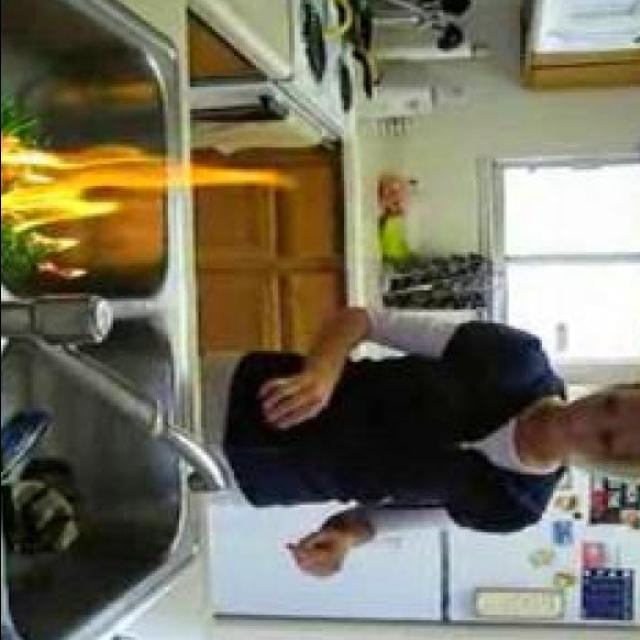Fire: (1, 139, 287, 238), (28, 229, 90, 281)
